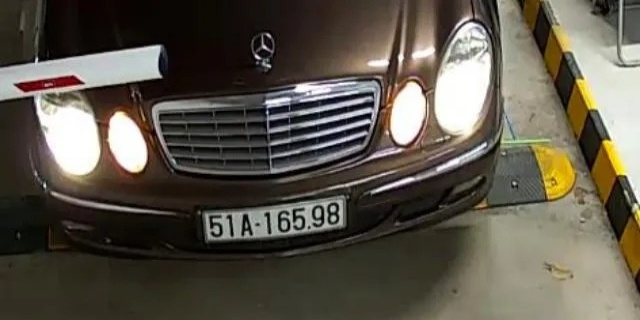bien_so: (203, 201, 343, 239)
